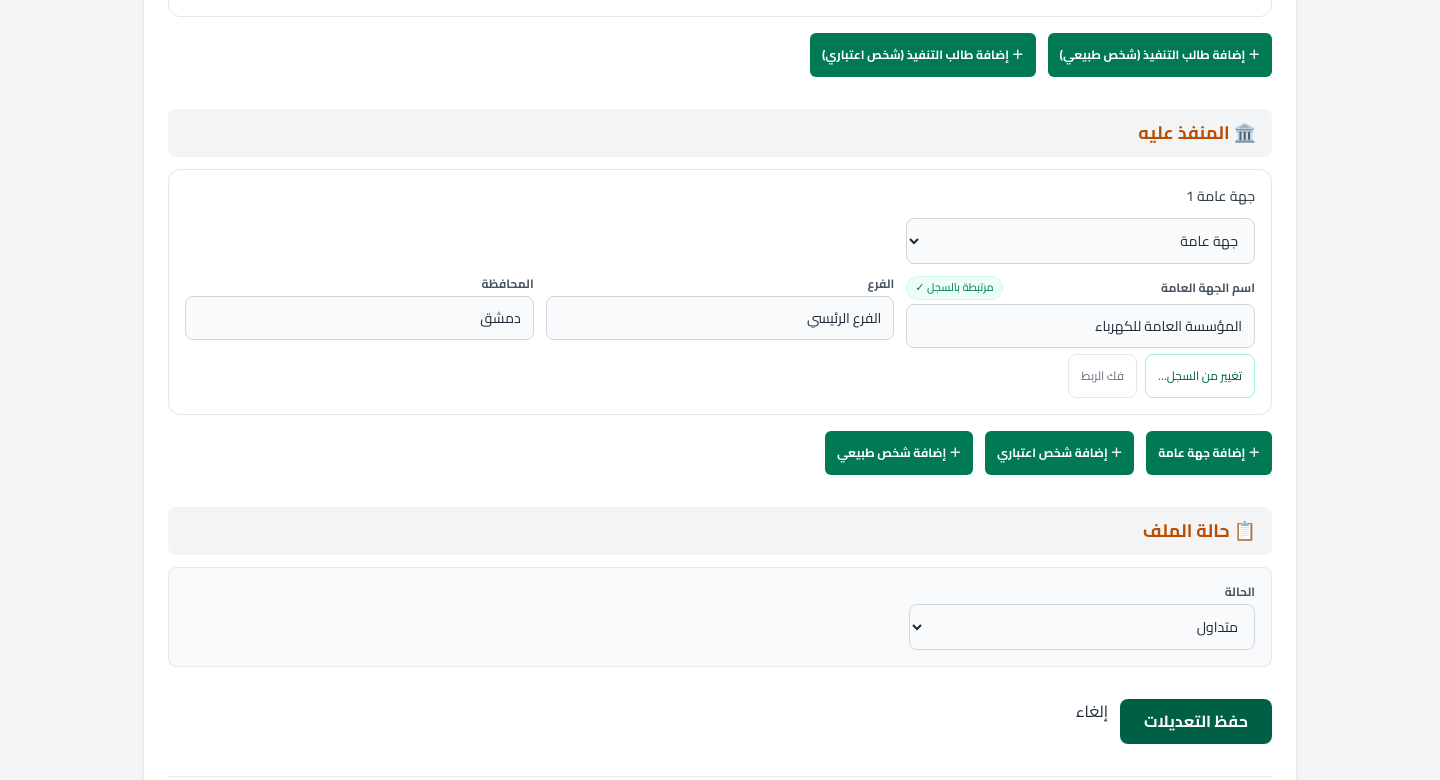
it: DocumentForm · التنفيذ › يقفل حقول الجهة العامة المنفذ عليها (public) ويفك ربطها حصرًا عبر الزر
(page scrolled)
Check: the text "مرتبطة بالسجل ✓" is shown, box [906,276,1002,300]
Click the button "فك الربط". click: (1103, 376)
box: [1068,354,1137,398]
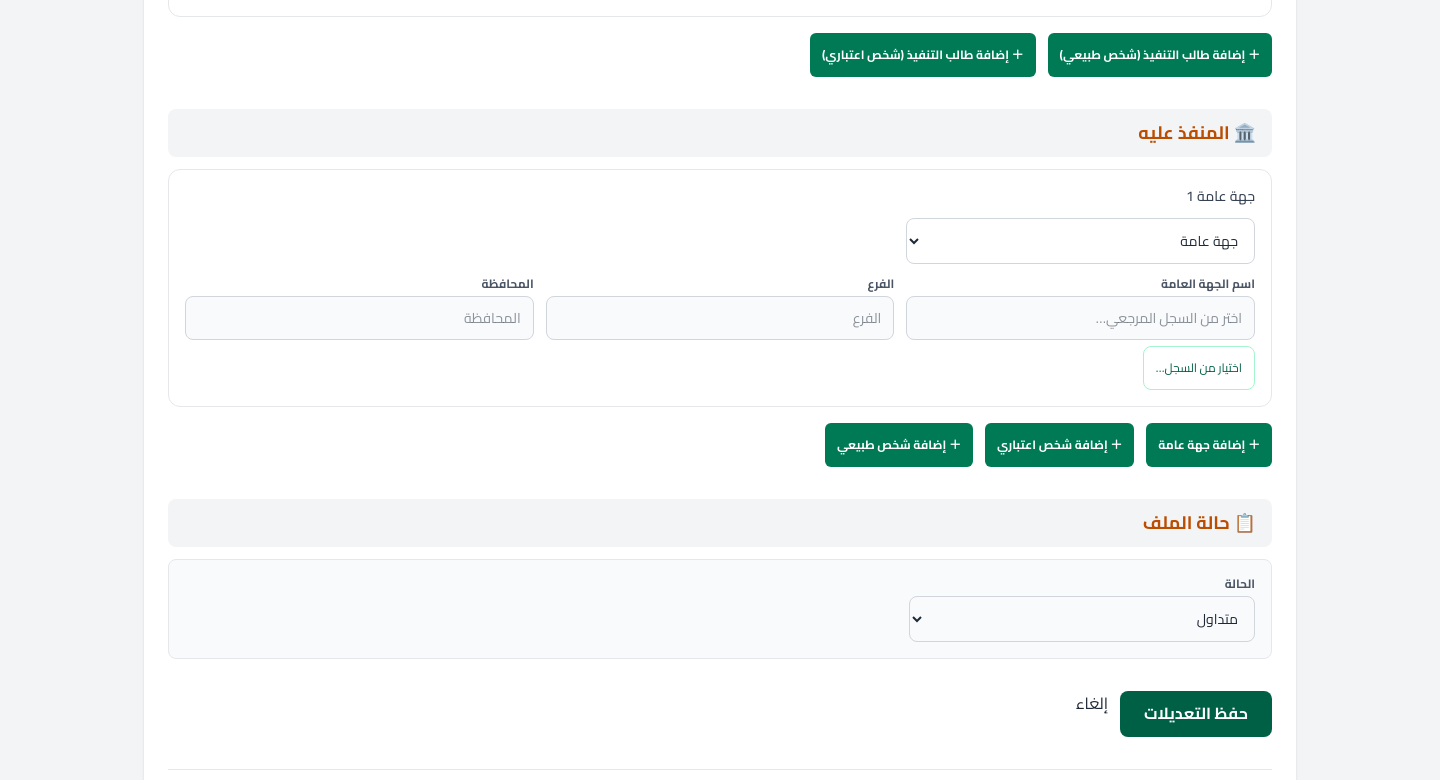
Check: the text "مرتبطة بالسجل ✓" is gone
Check: the field with placeholder "اختر من السجل المرجعي…" is empty, box [906,296,1255,340]
Check: the field with placeholder "الفرع" is empty, box [546,296,894,340]
